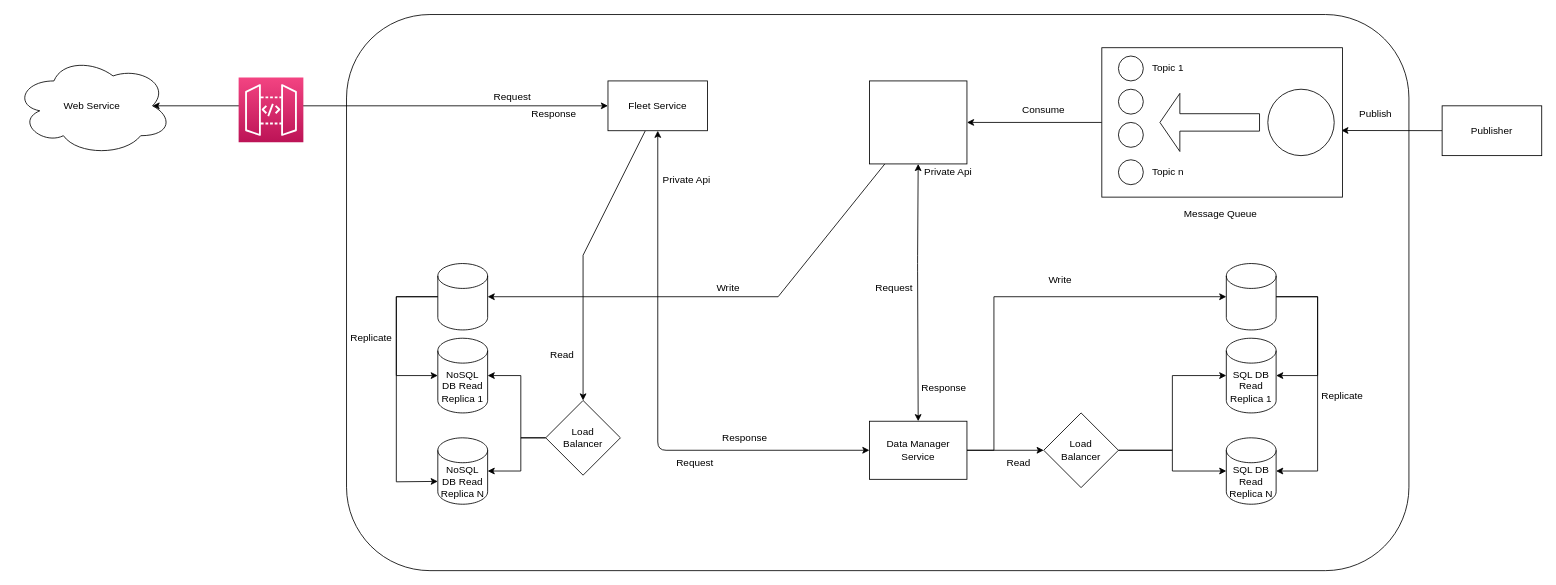
Image size: 1556x585. Some labels were removed from this diagram. Here are the shapes that lost their labels. From the top down, the box of each, then its label:
(869, 80, 967, 164): Monitor Service
(1159, 93, 1260, 151): Create Topics
(1267, 88, 1334, 156): Exchange
(437, 263, 488, 330): NoSQL DB Write Replica
(1225, 263, 1276, 330): SQL DB Write Replica
